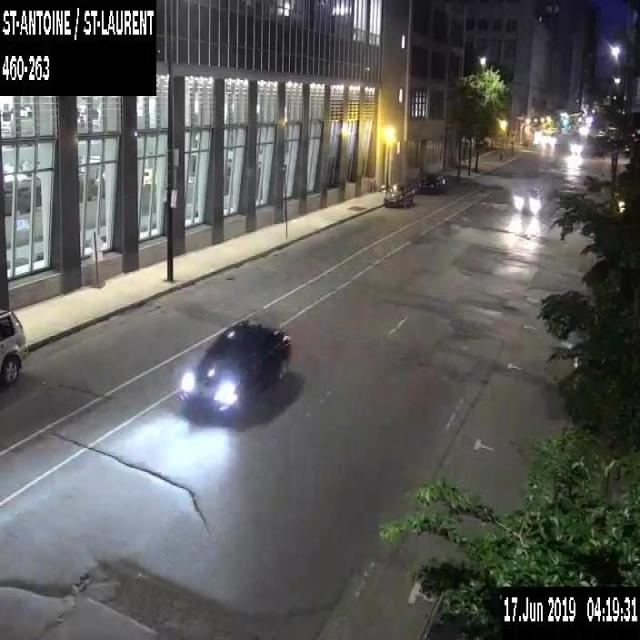construction: (86, 229, 103, 260)
vehicle: (179, 317, 292, 419), (0, 307, 29, 388), (383, 182, 413, 208), (514, 186, 546, 210), (418, 172, 447, 192), (578, 108, 596, 125), (542, 131, 559, 147), (569, 136, 583, 152), (596, 126, 606, 136), (606, 120, 615, 131), (578, 124, 588, 133)
